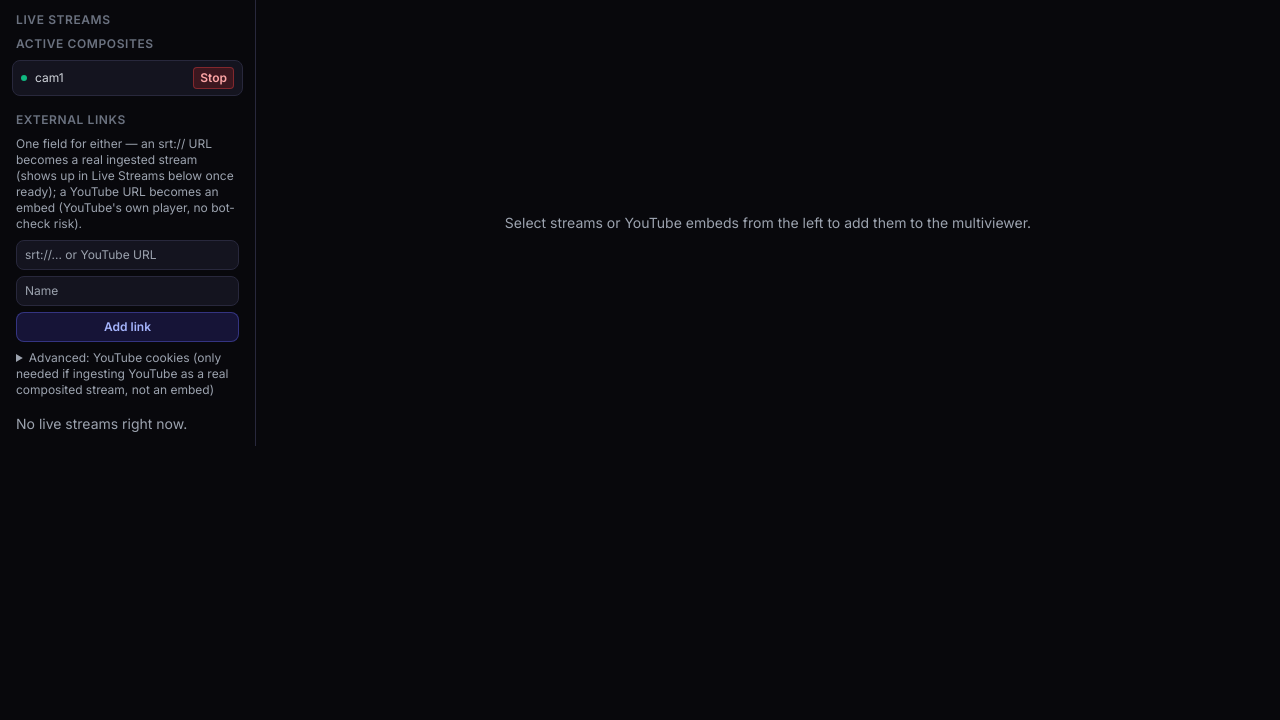
Test case: MultiviewerPage › shows an error toast when stopping a composite job fails
Click the button "Stop".
click(214, 78)  # box [193,67,234,89]
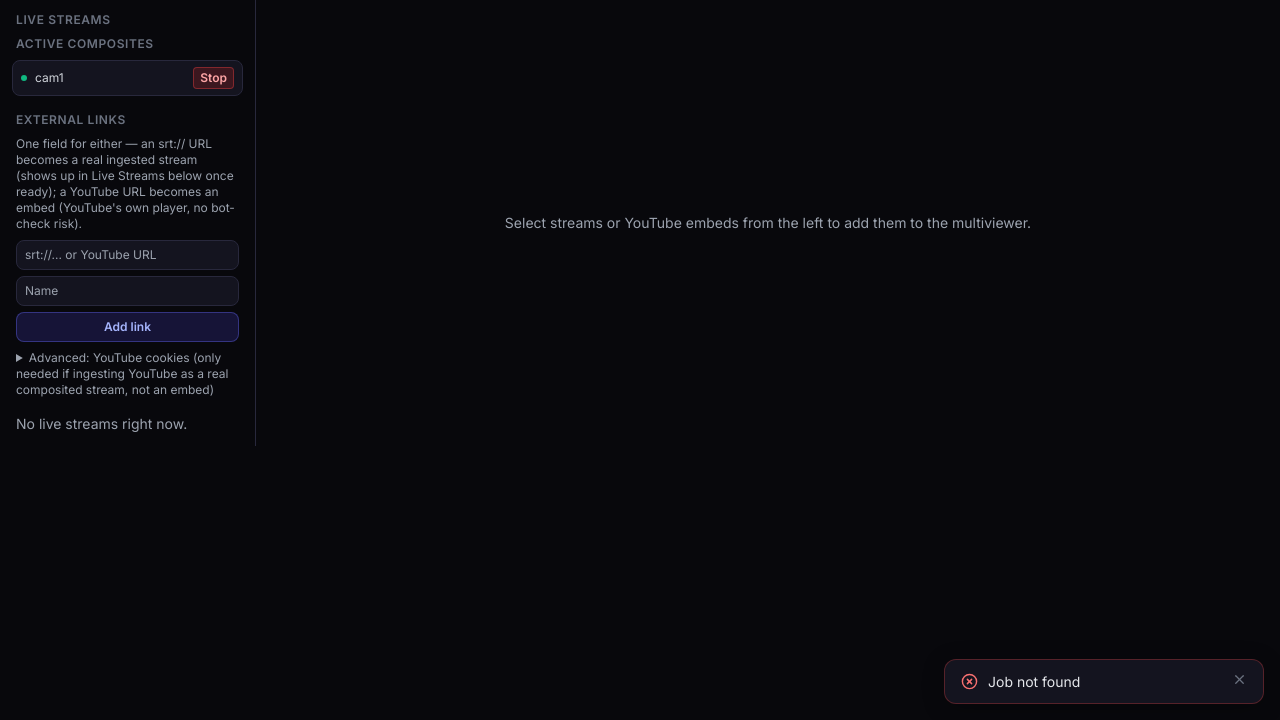
Check: the text "Job not found" is shown, box [988,673,1080,690]
